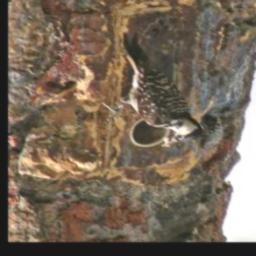Woodpecker: (102, 33, 205, 147)
